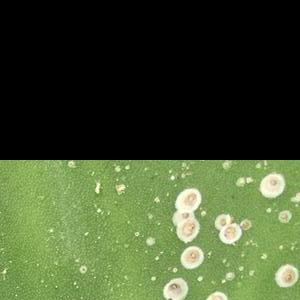Femea: (263, 174, 284, 194), (164, 278, 187, 296), (182, 221, 200, 238), (181, 190, 198, 207), (176, 208, 193, 224), (221, 225, 237, 241), (182, 249, 200, 263), (280, 269, 294, 285), (217, 215, 230, 228), (239, 218, 250, 229), (278, 210, 289, 221), (210, 292, 224, 299), (79, 265, 86, 273)
Linfa: (146, 237, 154, 245), (225, 272, 233, 278), (132, 231, 139, 236), (154, 255, 159, 260), (196, 276, 202, 280)
